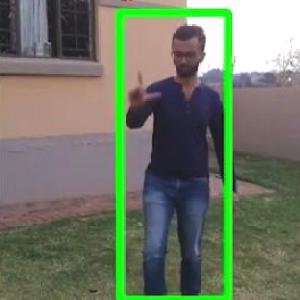land_hand: (120, 62, 162, 112)
